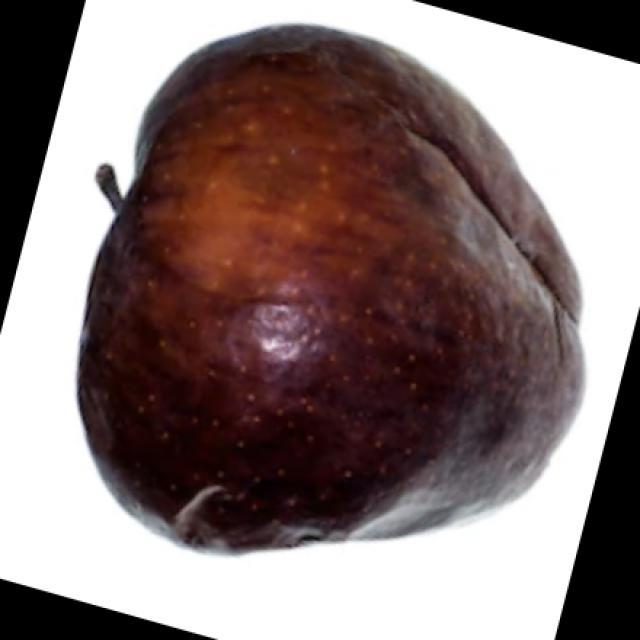Rotten: (76, 26, 582, 562)
